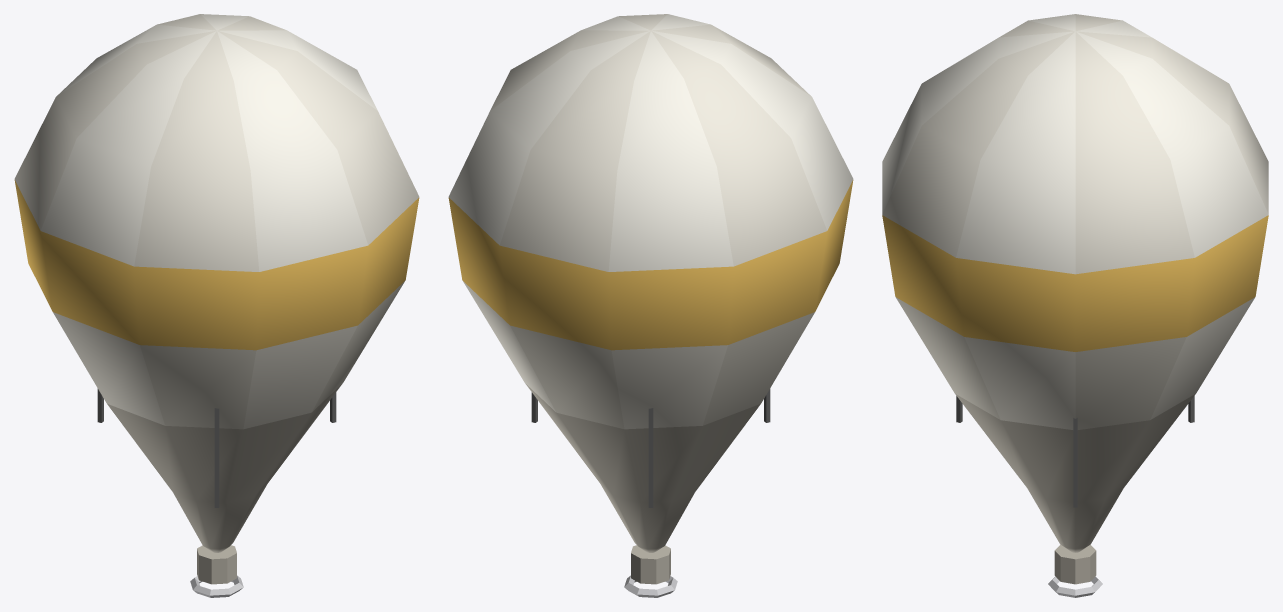
Rendered from fulton_balloon.glb.
3 renders of one model, left to right at view 1: azimuth 30°, elevation 25°; view 2: azimuth 150°, elevation 25°; view 3: azimuth 270°, elevation 25°, orthographic.
Parts seen in each view (by area): view 1: FultonBalloon.001; view 2: FultonBalloon.001; view 3: FultonBalloon.001.
Part boxes in pixels (bbox=[...]): FultonBalloon.001: bbox=[14, 14, 419, 597]; FultonBalloon.001: bbox=[448, 14, 853, 597]; FultonBalloon.001: bbox=[882, 14, 1268, 597].
Bounding box in the file's own units: 1.76 × 2.66 × 1.67.
